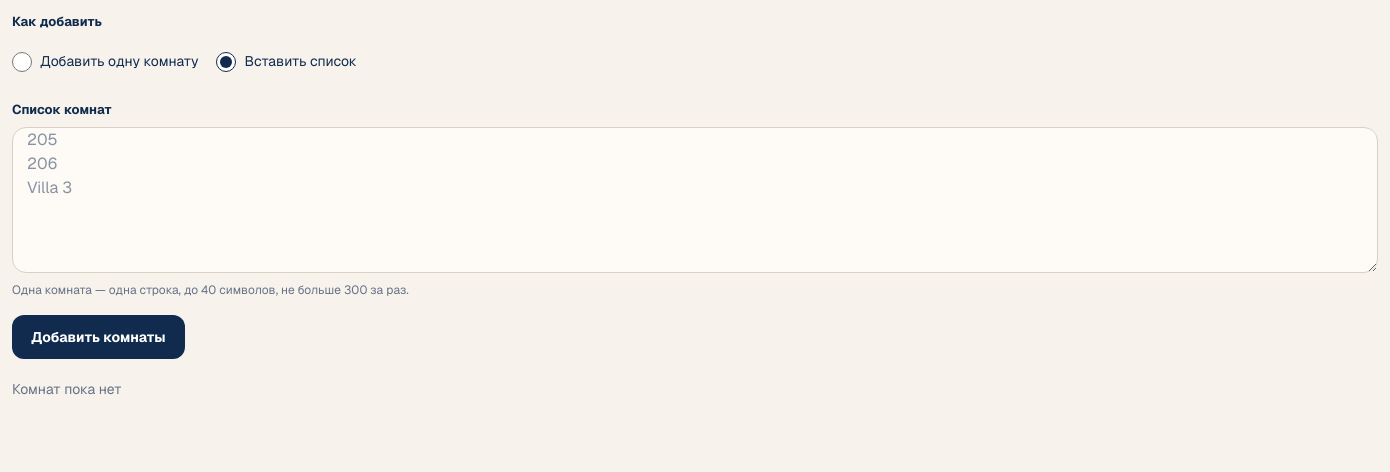
RoomEditor › maps a database conflict to an actionable message and refreshes the list
The width and height of the screenshot is (1390, 472).
Type "205" into the text box labelled "Список комнат" at (695, 200), box [12,127,1378,273]
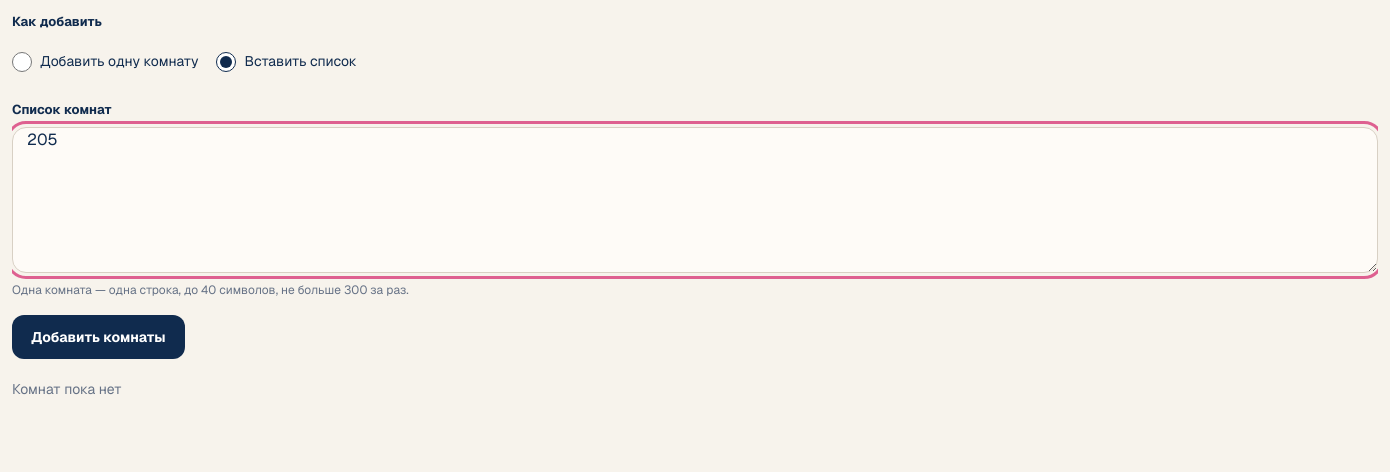
Click the button "Добавить комнаты" at (98, 337), box [12,315,185,359]
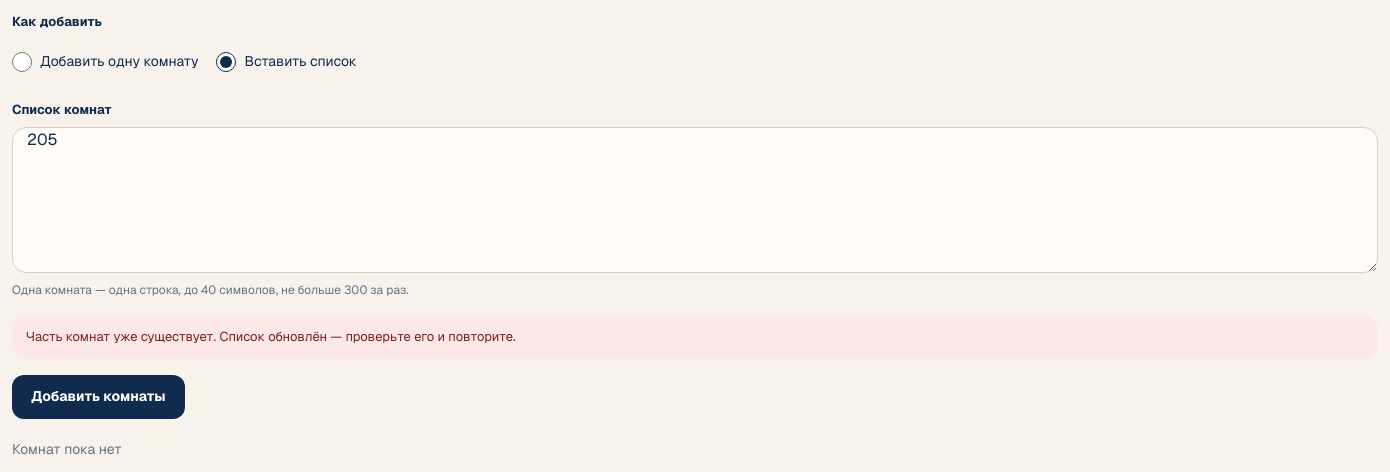
expect the message reads "Часть комнат уже существует. Список обновлён — проверьте его и повторите.": met, box [26,328,516,345]
